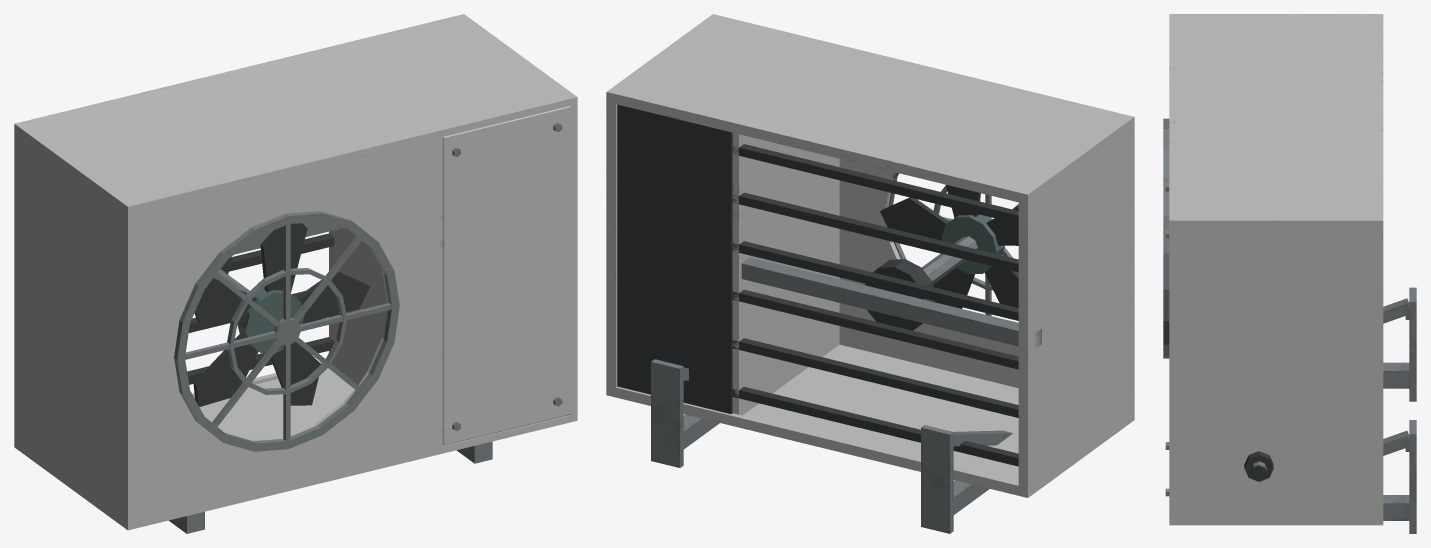
The model's file is air_conditioner_small.glb.
3 views of the same model, side by side, from view 1: azimuth 30°, elevation 25°; view 2: azimuth 150°, elevation 25°; view 3: azimuth 270°, elevation 25° (orthographic). The views are drawn at different scales.
Visible parts, largest first — view 1: AirConditionerSmall; view 2: AirConditionerSmall; view 3: AirConditionerSmall.
Boxes of the visible parts, x1,y1,x2,y2 form: AirConditionerSmall: (14, 14, 577, 533); AirConditionerSmall: (606, 14, 1134, 533); AirConditionerSmall: (1163, 14, 1416, 533).
Size of the model in its own units: 0.838 by 0.62 by 0.415.
1 material, 1 textured.
